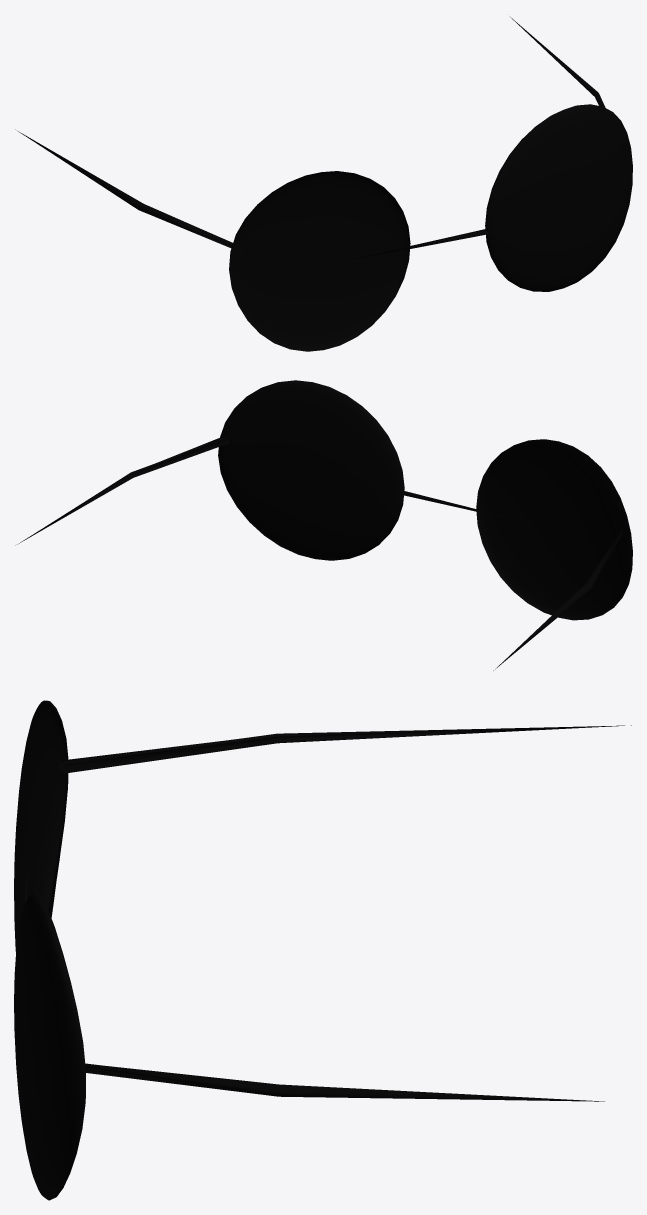
File: Circle-Shades.glb
3 renders of one model, top to bottom at view 1: azimuth 30°, elevation 25°; view 2: azimuth 150°, elevation 25°; view 3: azimuth 270°, elevation 25°, orthographic. The views are drawn at different scales.
Visible parts, largest first — view 1: Cone.001; view 2: Cone.001; view 3: Cone.001.
Boxes of the visible parts, <box> form: Cone.001: <box>15,17,632,351</box>; Cone.001: <box>15,380,632,670</box>; Cone.001: <box>14,700,631,1200</box>.
Bounding box in the file's own units: 0.5026 × 0.1766 × 0.3476.
Materials: 1 (1 with a texture image).
